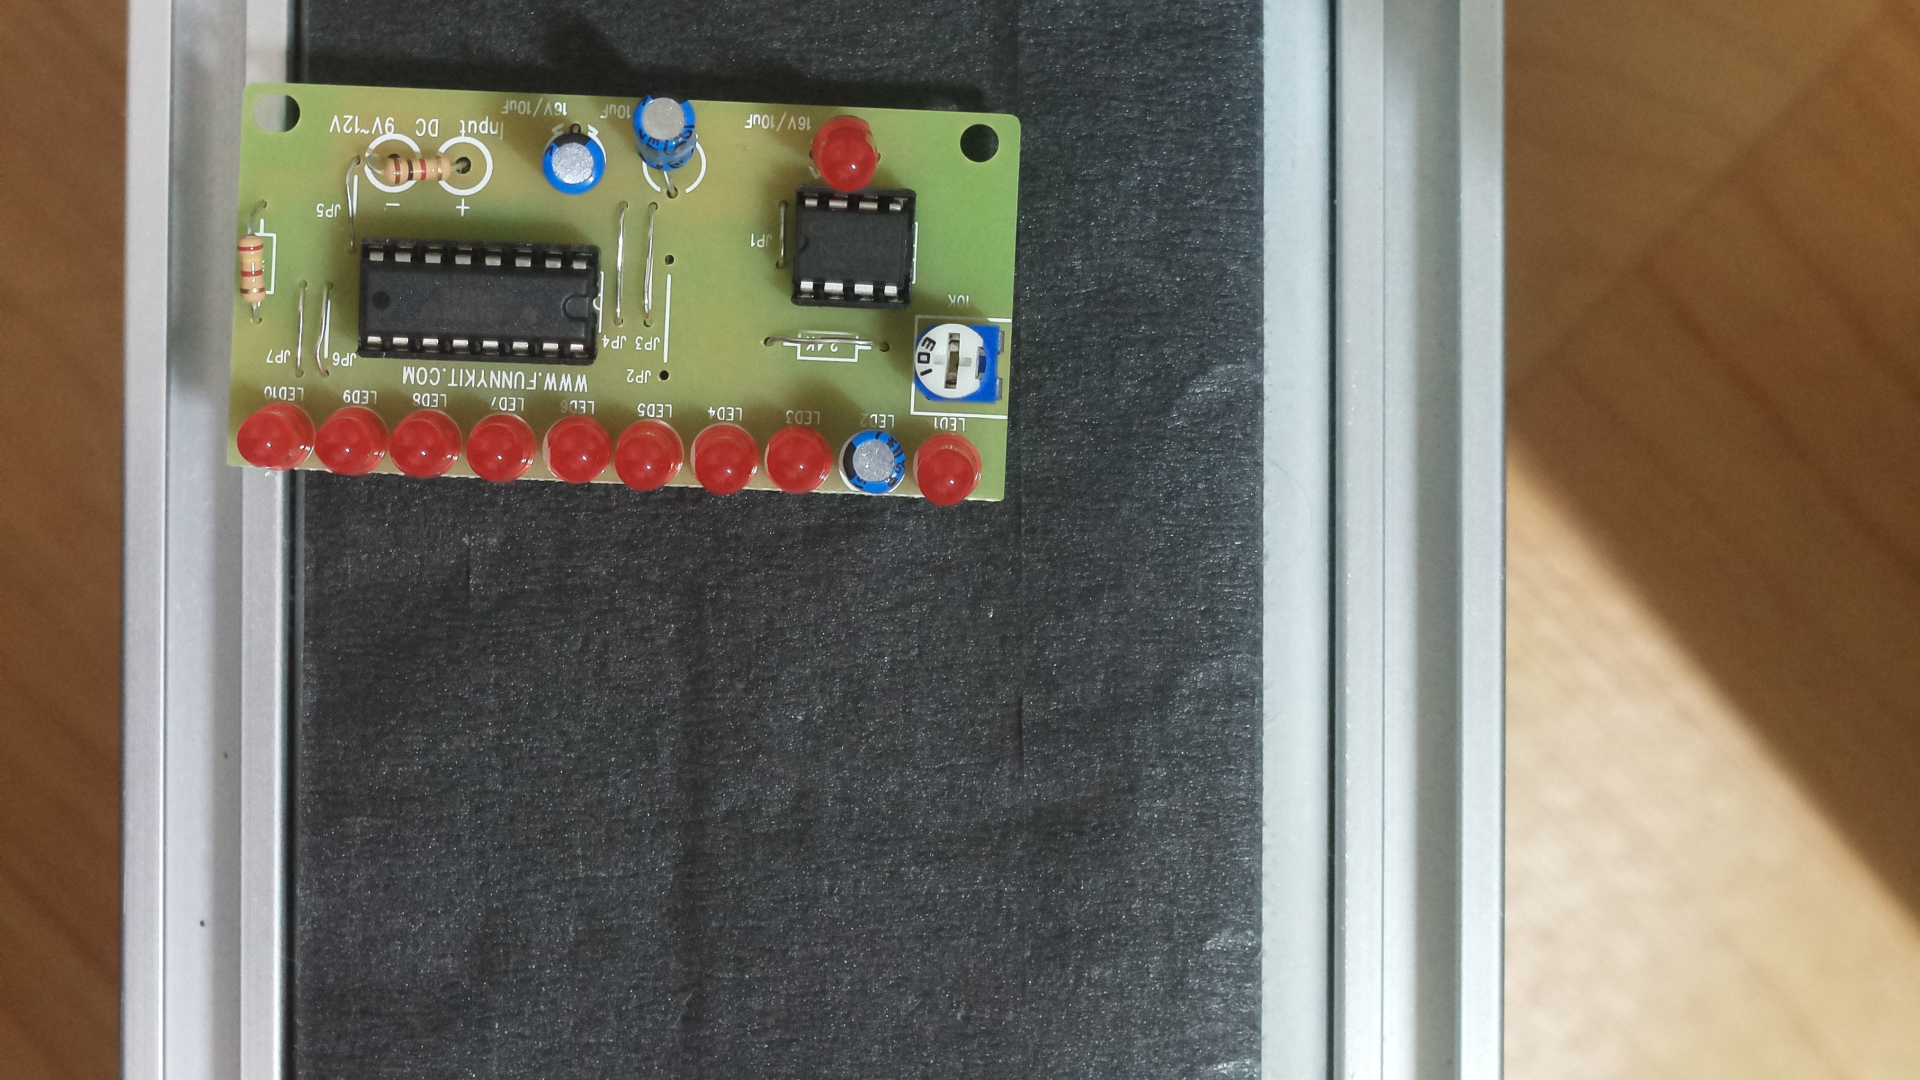B_Misordered: (206, 74, 1048, 522)
